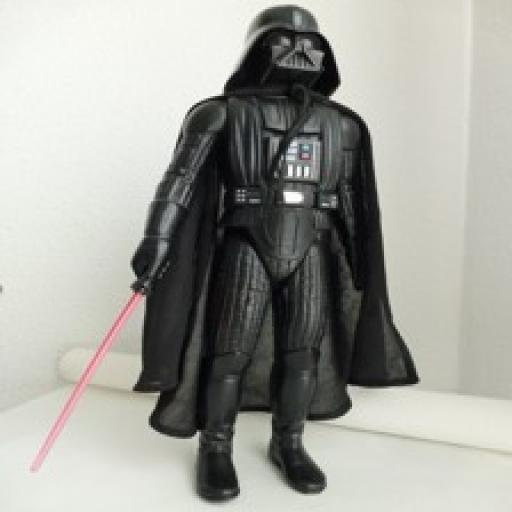human: (119, 1, 392, 503)
sith saber: (31, 246, 172, 472)
